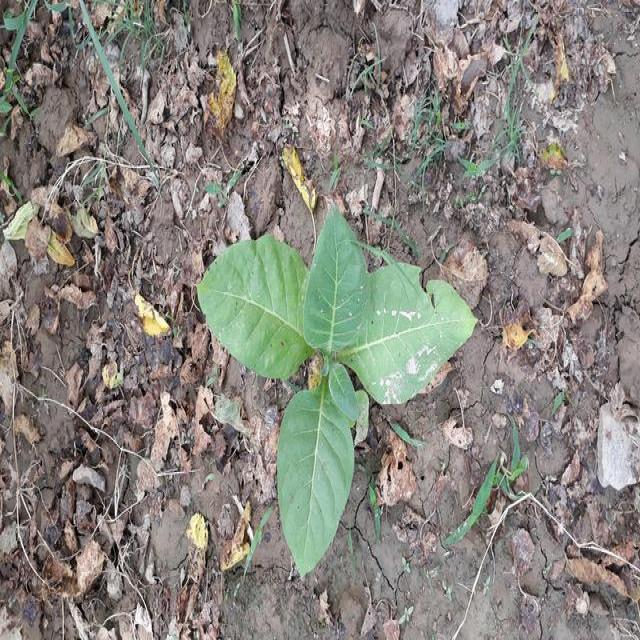crop: (208, 224, 470, 576)
